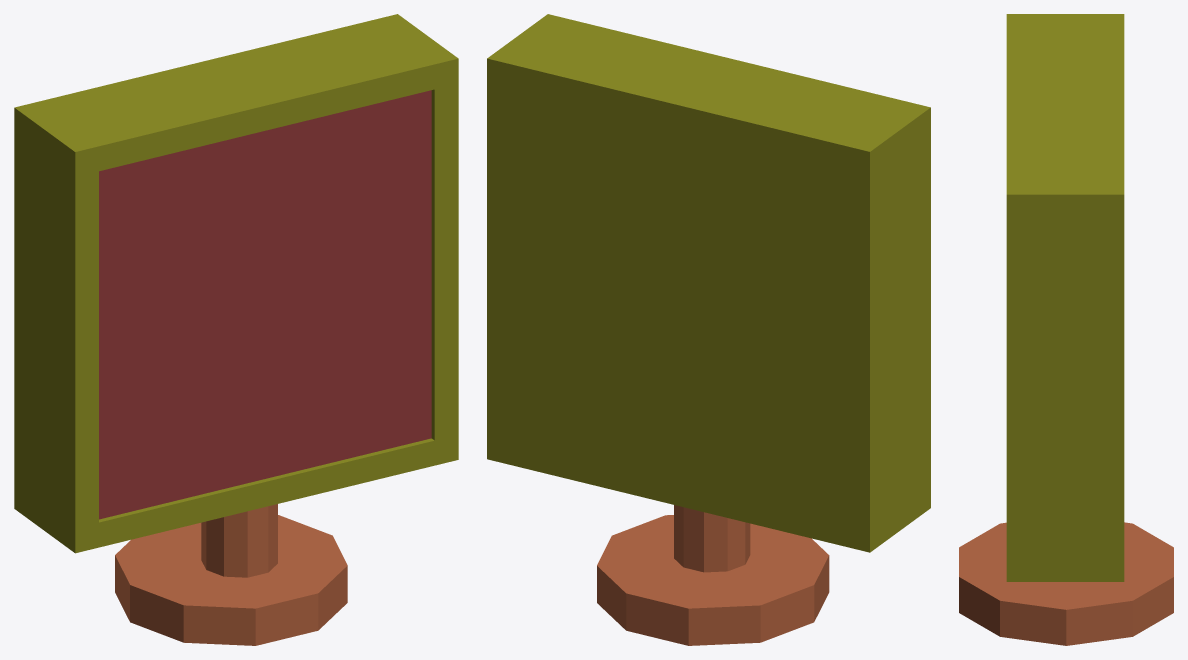
File: computer_screen_screen.fbx
3 views of the same model, side by side, from view 1: azimuth 30°, elevation 25°; view 2: azimuth 150°, elevation 25°; view 3: azimuth 270°, elevation 25° (orthographic). The views are drawn at different scales.
Parts seen in each view (by area): view 1: computer_top, bottom_of_computer, computer_neck; view 2: computer_top, bottom_of_computer, computer_neck; view 3: computer_top, bottom_of_computer.
Part boxes in pixels (<box>): computer_top: <box>14,14,458,553</box>; bottom_of_computer: <box>115,515,347,645</box>; computer_neck: <box>201,504,277,577</box>; computer_top: <box>487,14,930,552</box>; bottom_of_computer: <box>597,515,829,645</box>; computer_neck: <box>674,505,750,572</box>; computer_top: <box>1006,14,1124,581</box>; bottom_of_computer: <box>959,522,1173,645</box>.
Bounding box in the file's own units: 1 × 1.28 × 0.5025.
